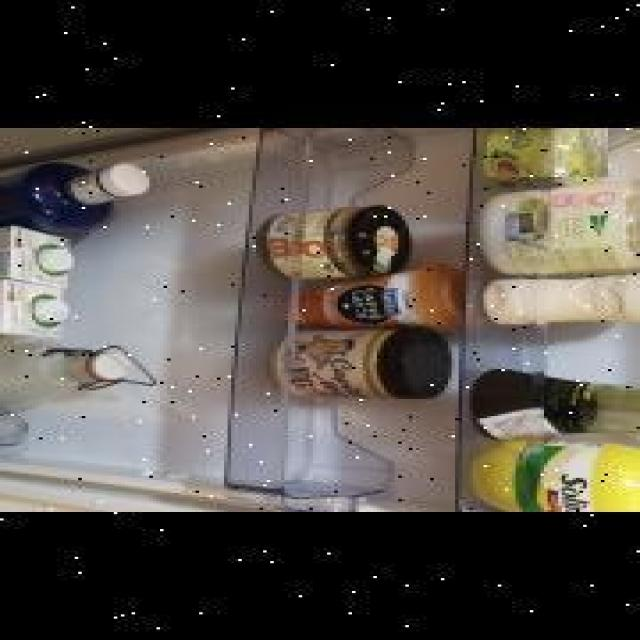guacamole: (473, 128, 604, 177)
milk: (0, 277, 103, 352), (0, 222, 100, 286)
